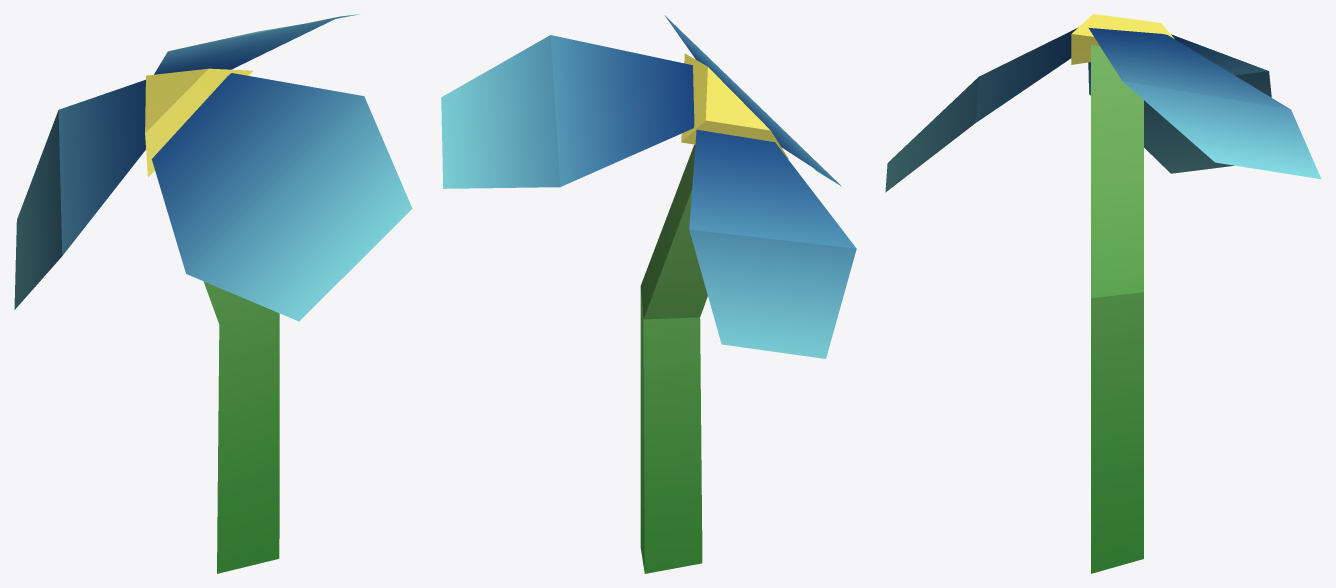
Rendered from flower5.fbx.
3 renders of one model, left to right at view 1: azimuth 30°, elevation 25°; view 2: azimuth 150°, elevation 25°; view 3: azimuth 270°, elevation 25°, orthographic. The views are drawn at different scales.
Parts seen in each view (by area): view 1: flower6; view 2: flower6; view 3: flower6.
Part boxes in pixels (<box>): flower6: <box>14,14,412,573</box>; flower6: <box>441,15,856,573</box>; flower6: <box>885,14,1321,573</box>.
Bounding box in the file's own units: 19.19 × 25.49 × 18.95.
